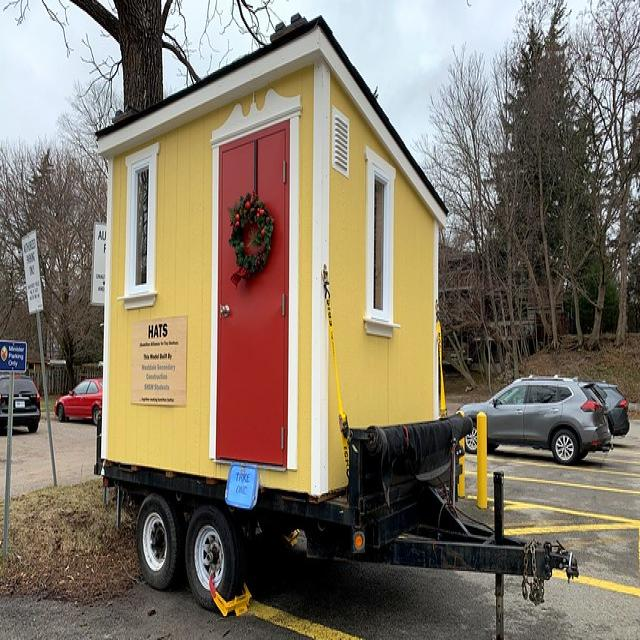Normal_building: (88, 14, 450, 502)
